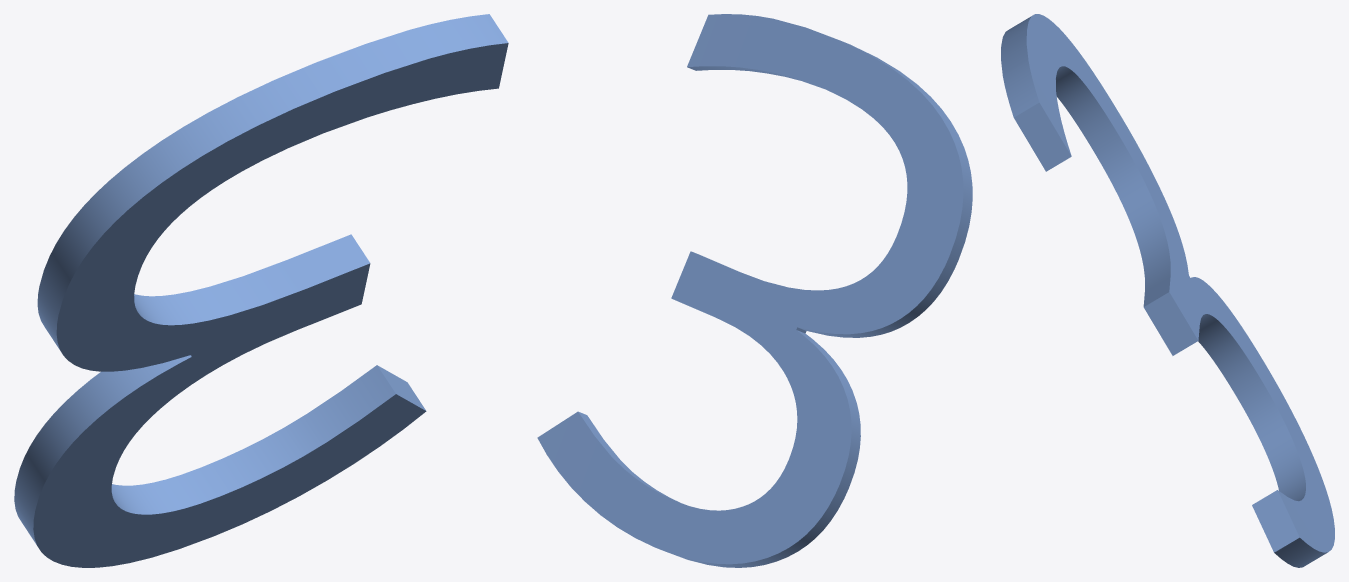
Rendered from New_Number_3.gltf.
3 renders of one model, left to right at view 1: azimuth 30°, elevation 25°; view 2: azimuth 150°, elevation 25°; view 3: azimuth 270°, elevation 25°, orthographic. The views are drawn at different scales.
Visible parts, largest first — view 1: Part 30; view 2: Part 30; view 3: Part 30.
Boxes of the visible parts, <box> form: Part 30: <box>14,14,508,567</box>; Part 30: <box>537,14,972,567</box>; Part 30: <box>1001,14,1334,567</box>.
Bounding box in the file's own units: 0.00374 × 0.00469 × 0.00281.
